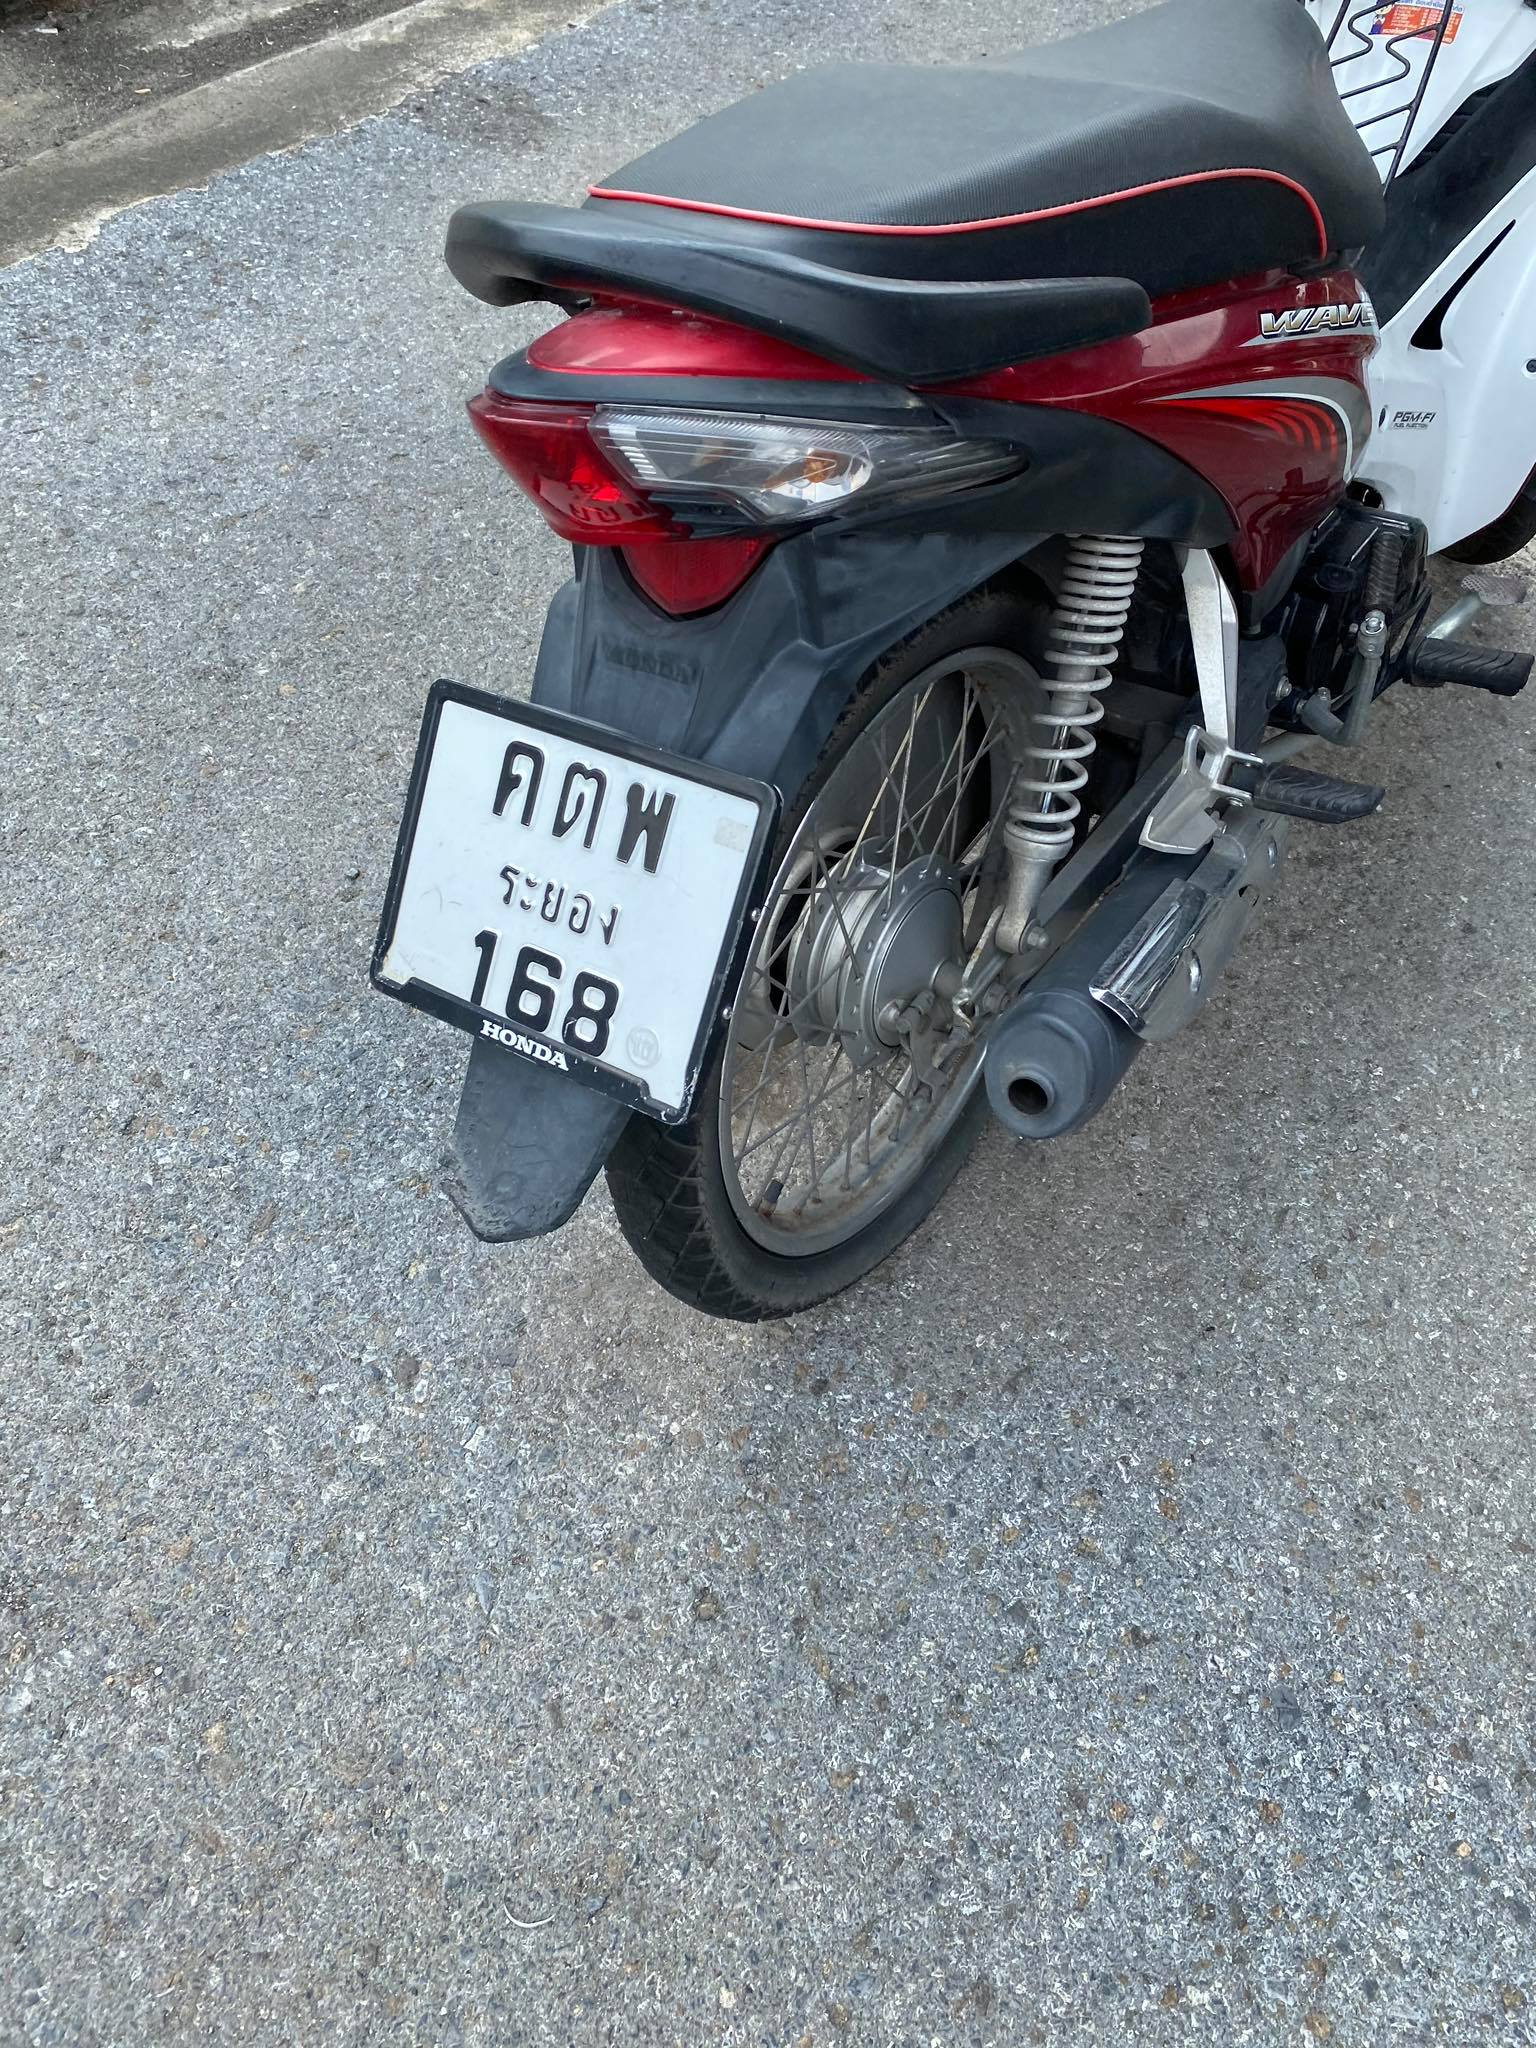line1: (479, 727, 691, 872)
line2: (490, 858, 650, 951)
line3: (437, 922, 641, 1061)
